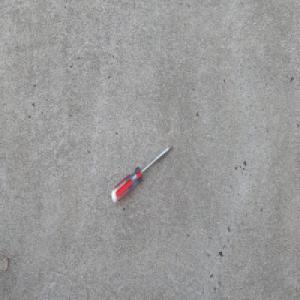Screwdriver: (110, 143, 173, 203)
